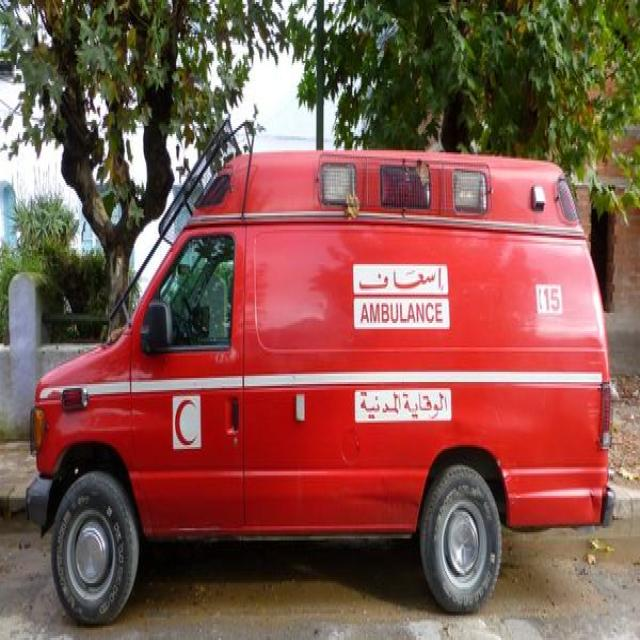ambulance: (35, 135, 607, 620)
